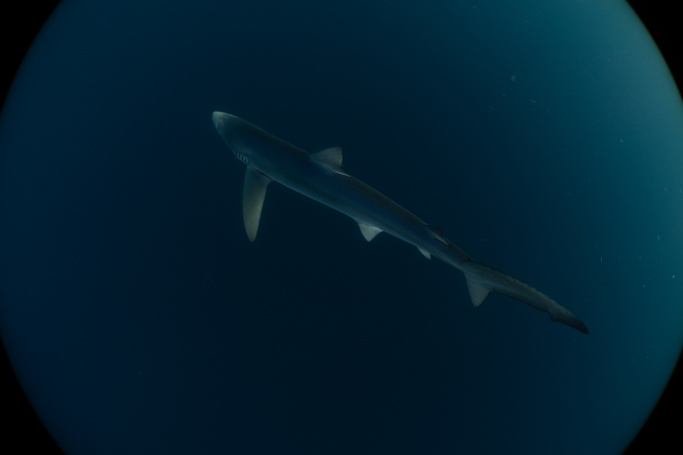Azul: (176, 99, 623, 372)
